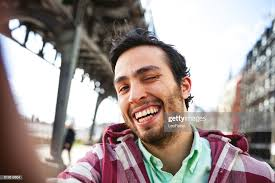middle_eastern_male: (118, 48, 190, 144)
